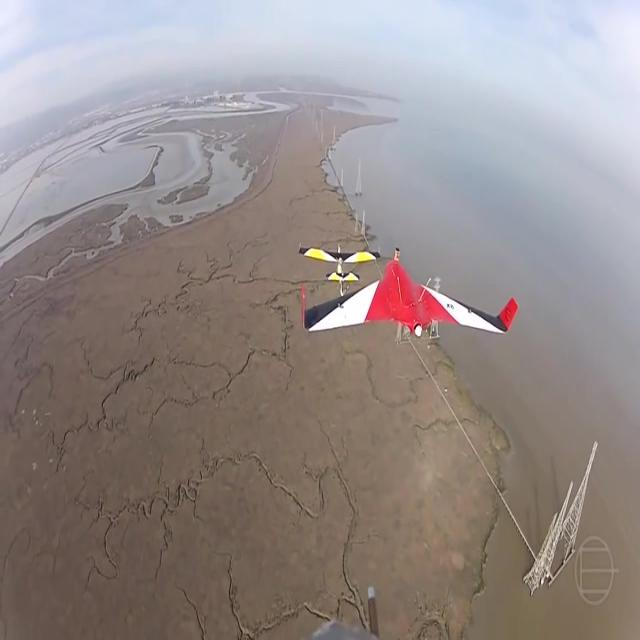iha: (301, 279, 518, 309), (330, 246, 349, 298)
